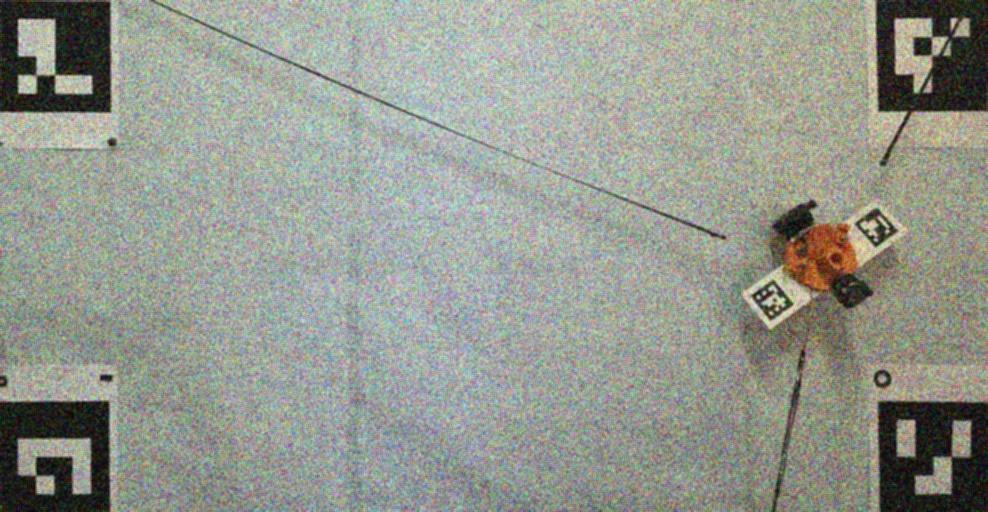robot: (775, 200, 873, 308)
